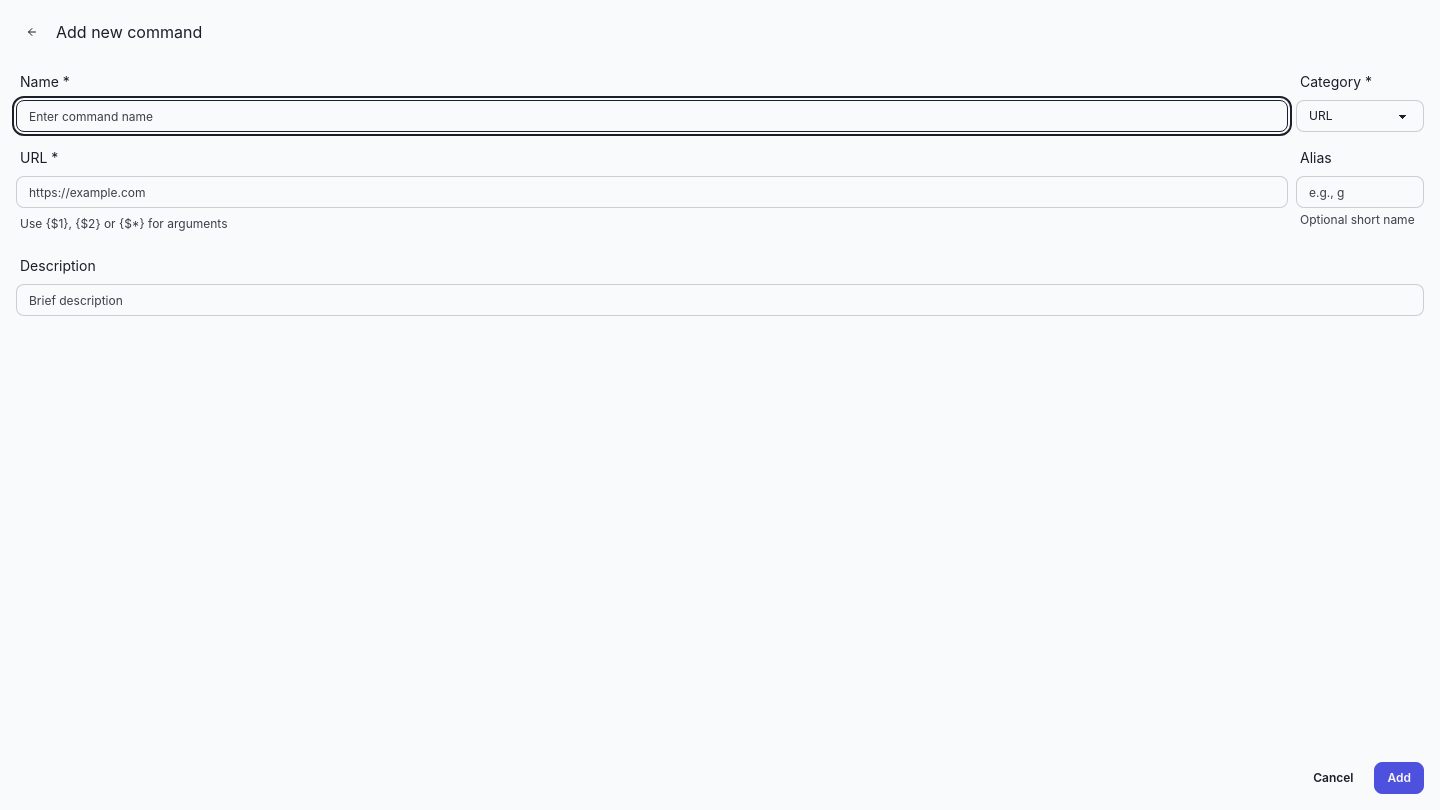
CommandForm validation copy › names the field that is missing for the category
What coordinates should you click on to do the following:
click the button "Add"
I would click on:
 (1399, 778)
Its box is [1374, 762, 1424, 794].
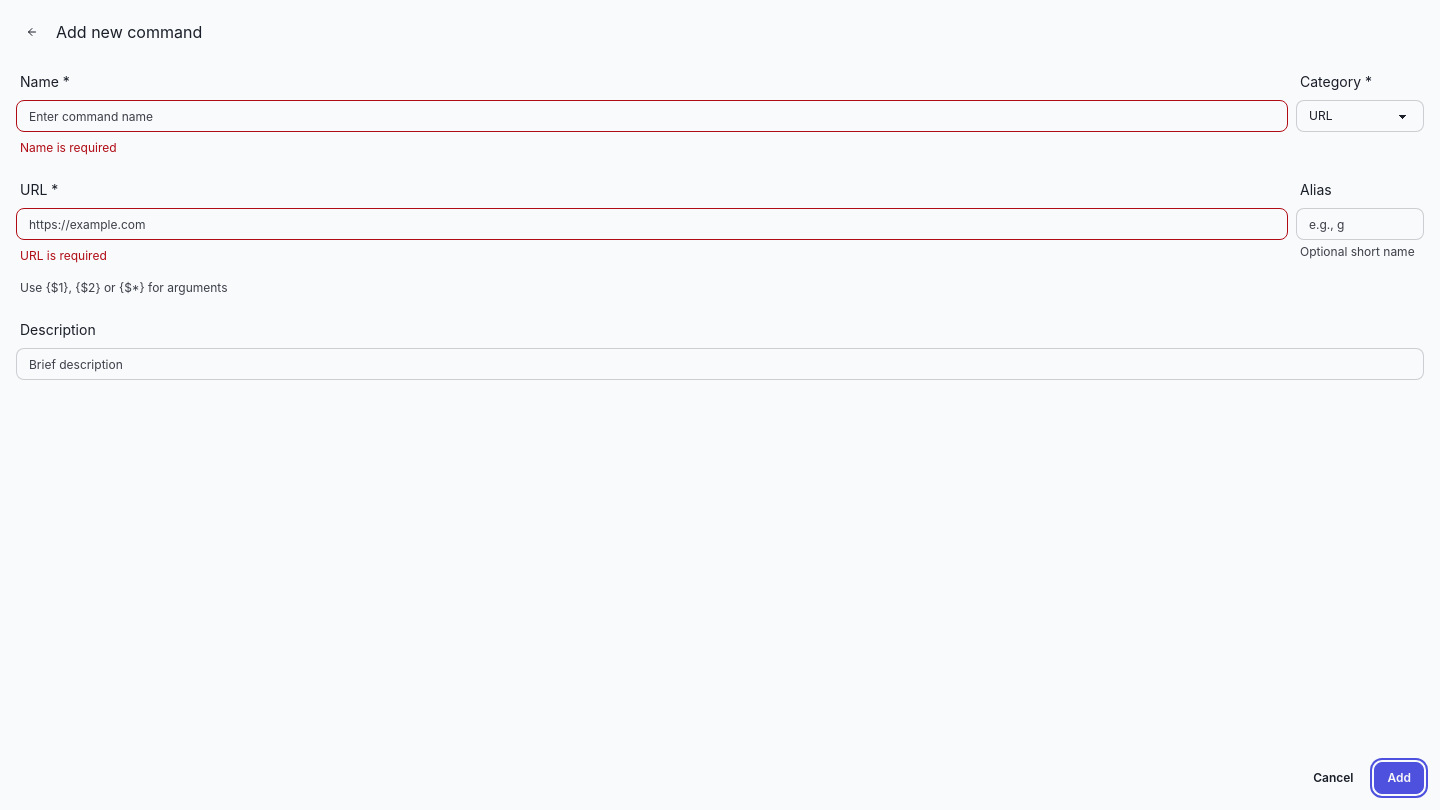
Check: the text "URL is required" is shown, box [20, 248, 107, 263]
